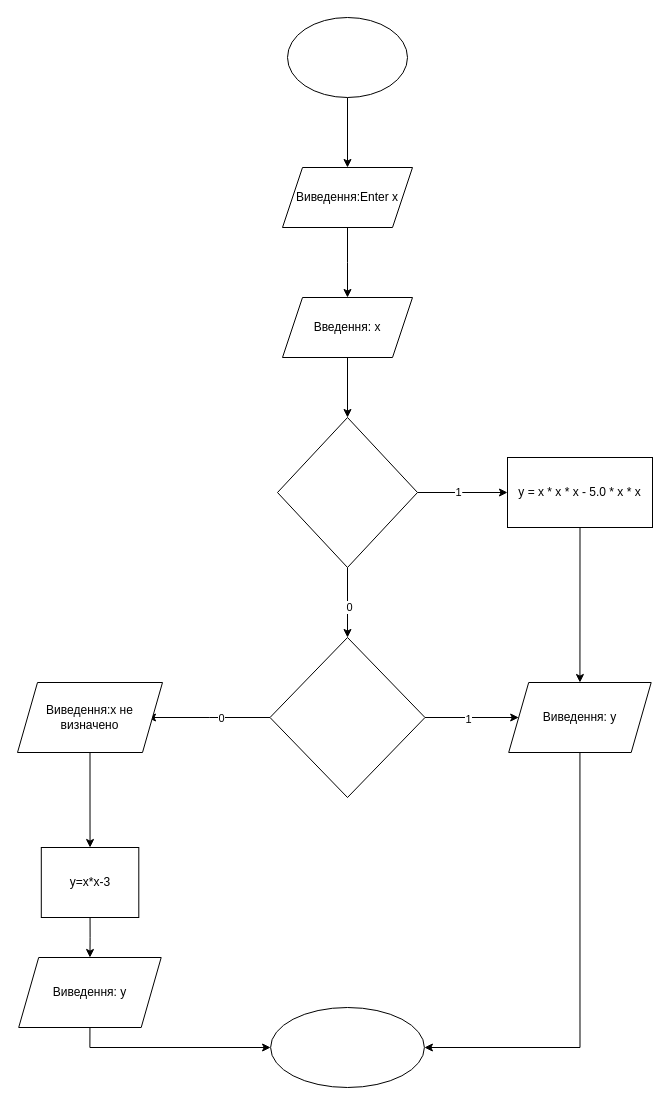
This 670x1105 diagram has some shape labels left out. Each missing label, with the centre of its shape:
(x >= -32 && x < -20) | | x > 10: (347,717)
x > 0 && x<= 5: (347,492)
Кінець: (347,1047)
Початок: (347,57)
